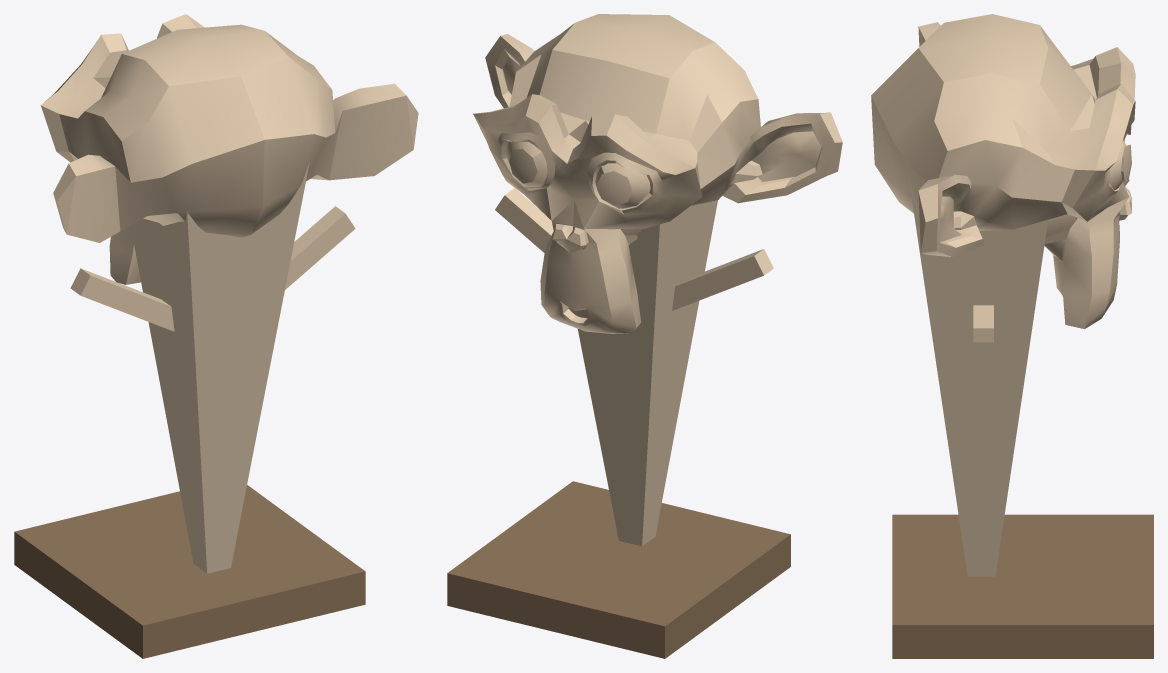
The model's file is player.glb.
3 renders of one model, left to right at view 1: azimuth 30°, elevation 25°; view 2: azimuth 150°, elevation 25°; view 3: azimuth 270°, elevation 25°, orthographic. The views are drawn at different scales.
Visible parts, largest first — view 1: Personnage; view 2: Personnage; view 3: Personnage.
Boxes of the visible parts, box(x1,y1,x2,y2) form: Personnage: box(14, 14, 418, 658); Personnage: box(447, 14, 842, 658); Personnage: box(871, 14, 1153, 658).
Bounding box in the file's own units: 0.9229 × 1.36 × 0.6144.
